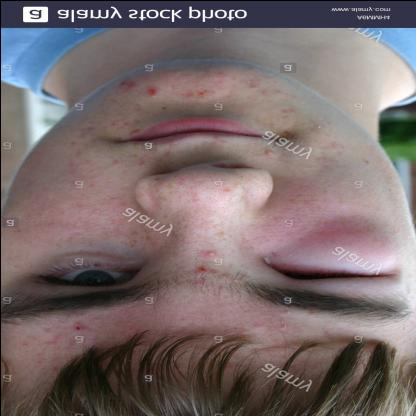Wasp: (272, 206, 404, 294)
